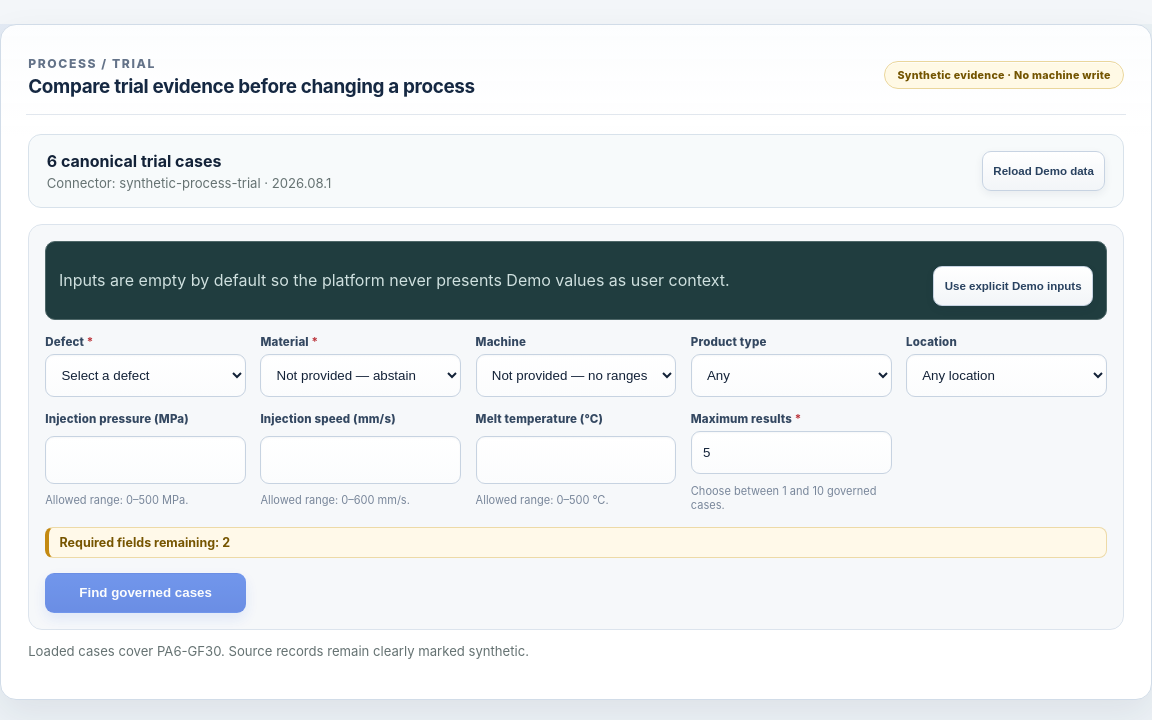
Test: ProcessTrialWorkspace › shows ranked evidence and guarded controlled-trial steps
The image size is (1152, 720).
Expected: the submit button is disabled, left=45, top=573, right=246, bottom=613
Click the button "Use explicit Demo inputs".
click(1013, 286)  # box left=933, top=266, right=1093, bottom=306
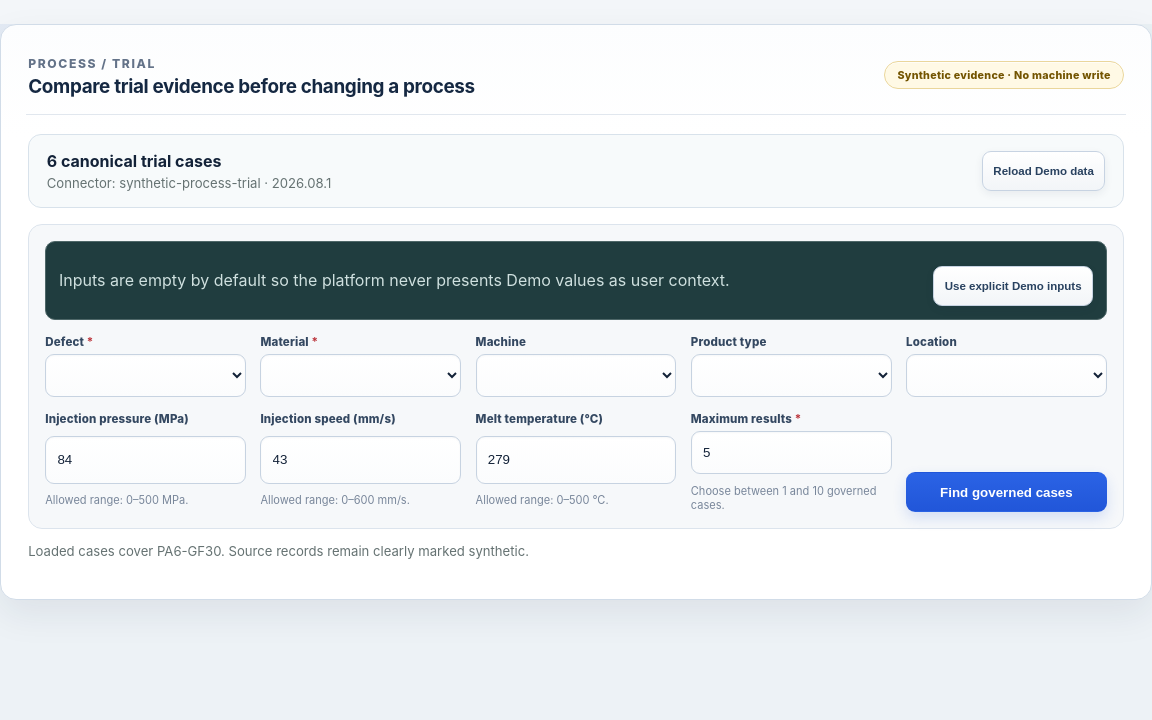
Submit the form, box left=28, top=224, right=1124, bottom=530
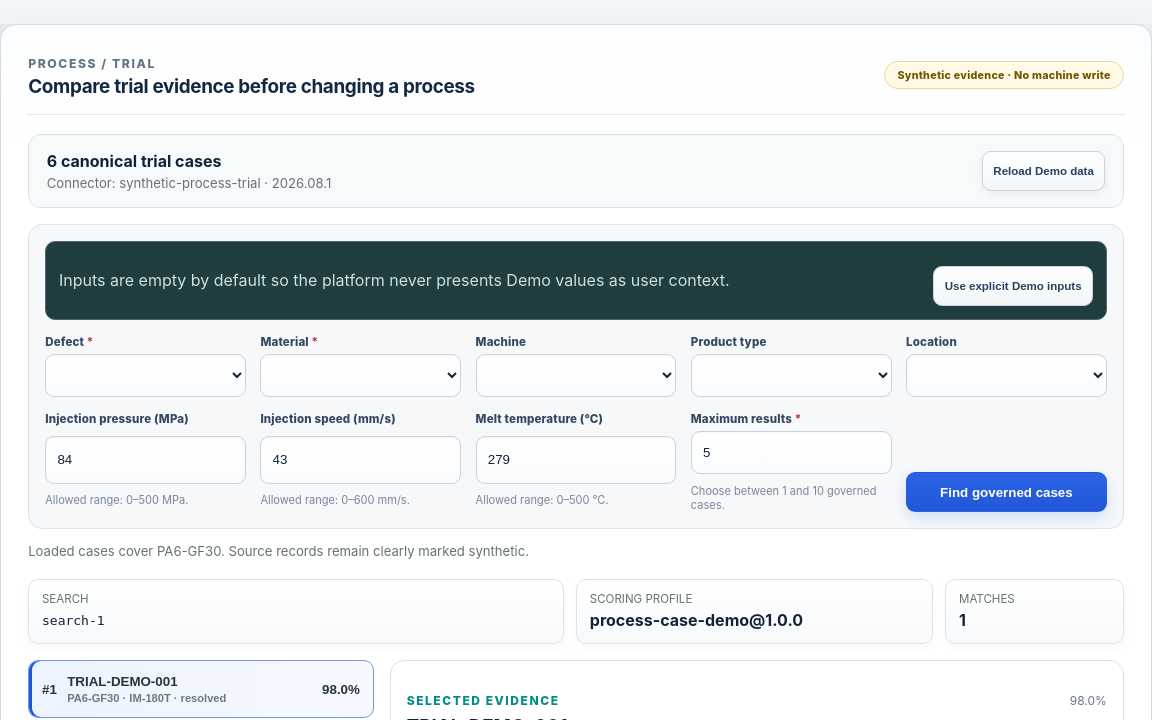
Result: the text "TRIAL-DEMO-001" is shown at left=67, top=674, right=178, bottom=689
